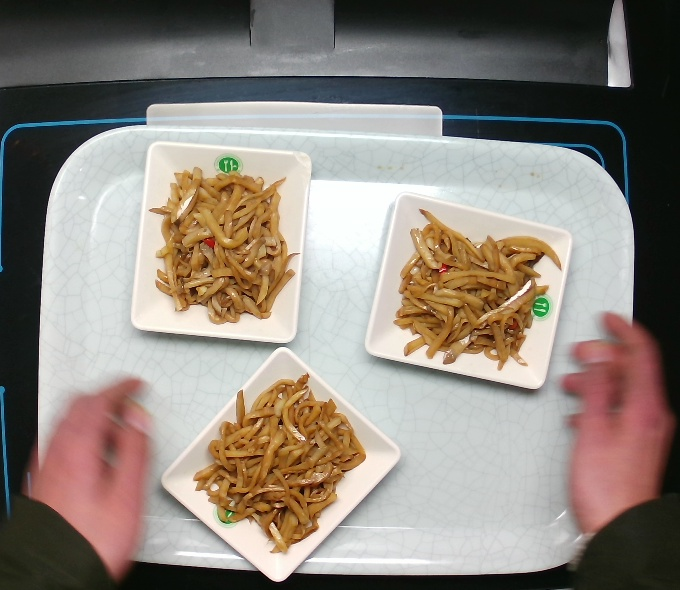wcq-LiangBanMoGu: (188, 368, 371, 559), (388, 205, 567, 376), (143, 160, 304, 328)
